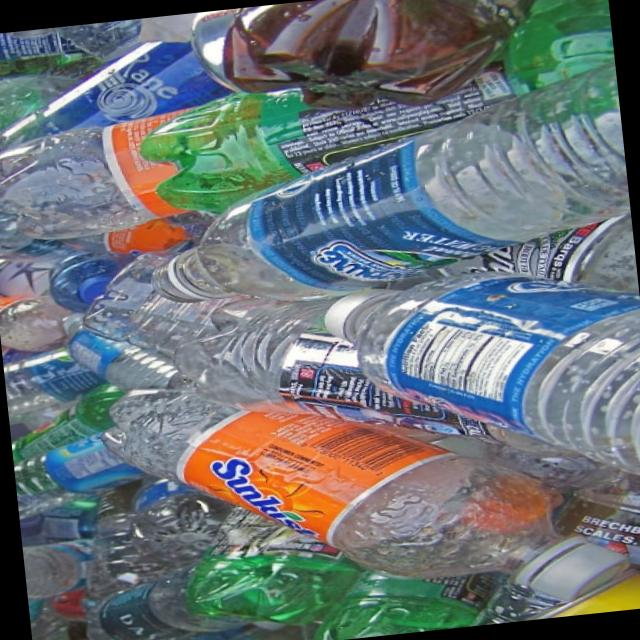plastic_bottle: (130, 42, 630, 307), (76, 371, 633, 605), (0, 46, 540, 243), (307, 253, 640, 487)
